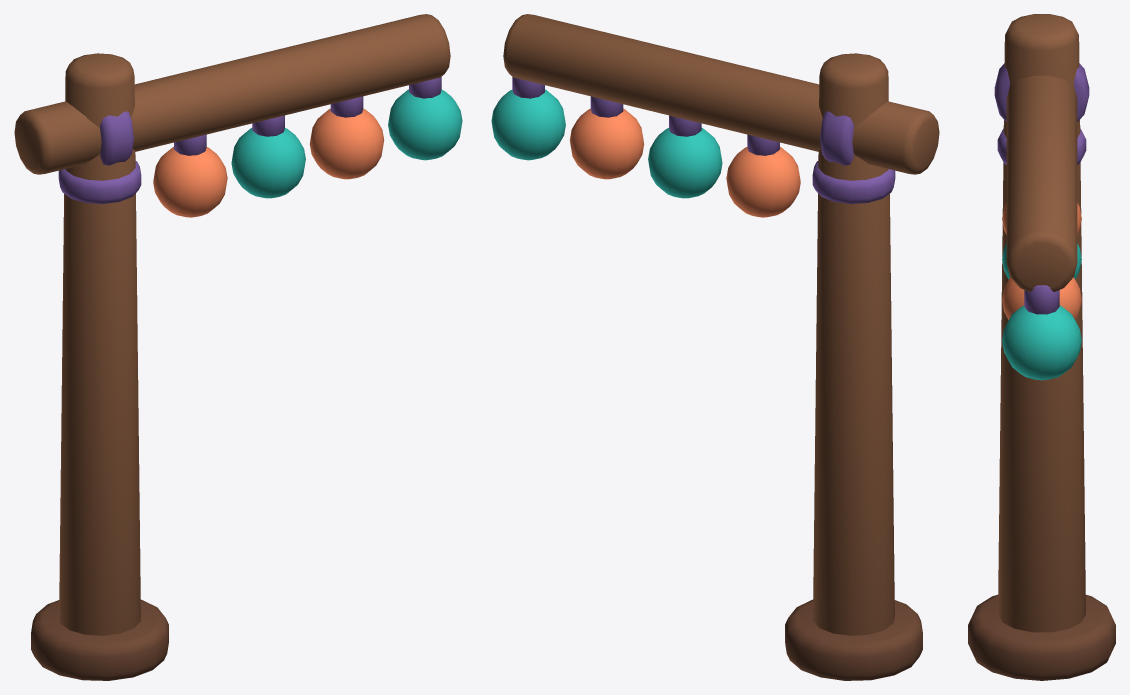
File: Beach_LightPost.fbx
3 views of the same model, side by side, from view 1: azimuth 30°, elevation 25°; view 2: azimuth 150°, elevation 25°; view 3: azimuth 270°, elevation 25° (orthographic). The views are drawn at different scales.
Visible parts, largest first — view 1: Wood, Neon_Turq, Neon_Coral, Wooddark, Purple; view 2: Wood, Neon_Turq, Neon_Coral, Wooddark, Purple; view 3: Wood, Wooddark, Neon_Turq, Purple, Neon_Coral.
Part boxes in pixels (x1,y1,x2,y2): Wood: (14, 14, 450, 635); Neon_Turq: (231, 89, 462, 198); Neon_Coral: (153, 108, 384, 217); Wooddark: (31, 599, 168, 680); Purple: (58, 77, 441, 203); Wood: (503, 14, 939, 635); Neon_Turq: (491, 89, 722, 198); Neon_Coral: (569, 108, 800, 217); Wooddark: (785, 599, 922, 680); Purple: (512, 77, 895, 203); Wood: (998, 14, 1085, 632); Wooddark: (968, 594, 1115, 680); Neon_Turq: (1002, 243, 1081, 380); Purple: (994, 63, 1089, 314); Neon_Coral: (1002, 202, 1081, 319).
Size of the model in its own units: 6.78 by 8.93 by 1.9.
